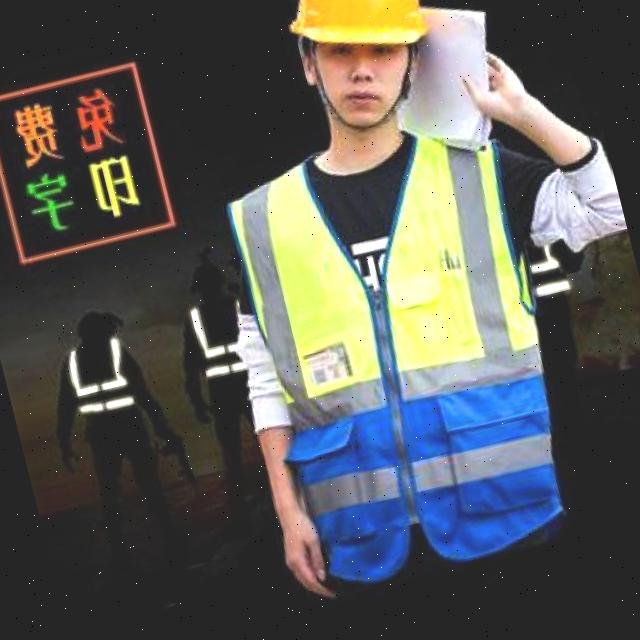vest: (221, 113, 553, 444)
